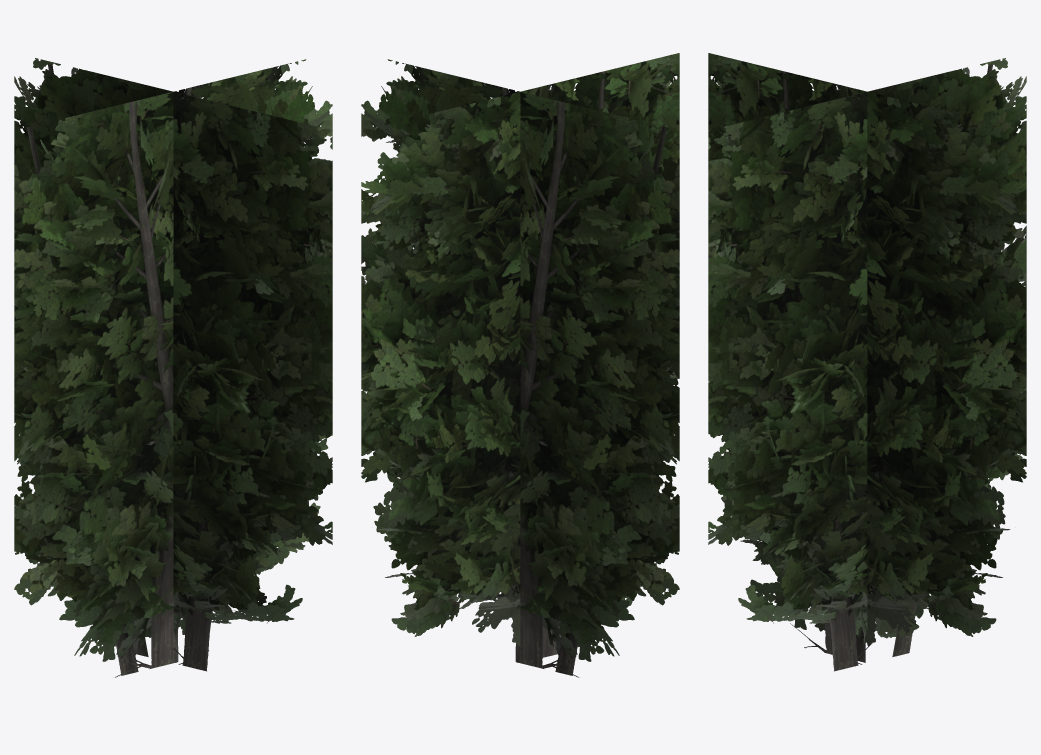
The model's file is olse_stara_daleko.glb.
3 views of the same model, side by side, from view 1: azimuth 30°, elevation 25°; view 2: azimuth 150°, elevation 25°; view 3: azimuth 270°, elevation 25° (orthographic).
Visible parts, largest first — view 1: olse_stara_daleko; view 2: olse_stara_daleko; view 3: olse_stara_daleko.
Part boxes in pixels (bbox=[...]): olse_stara_daleko: bbox=[14, 58, 332, 677]; olse_stara_daleko: bbox=[361, 53, 679, 677]; olse_stara_daleko: bbox=[708, 53, 1026, 671].
Size of the model in its own units: 11.98 by 20.55 by 10.37.
Materials: 3 (3 with a texture image).
